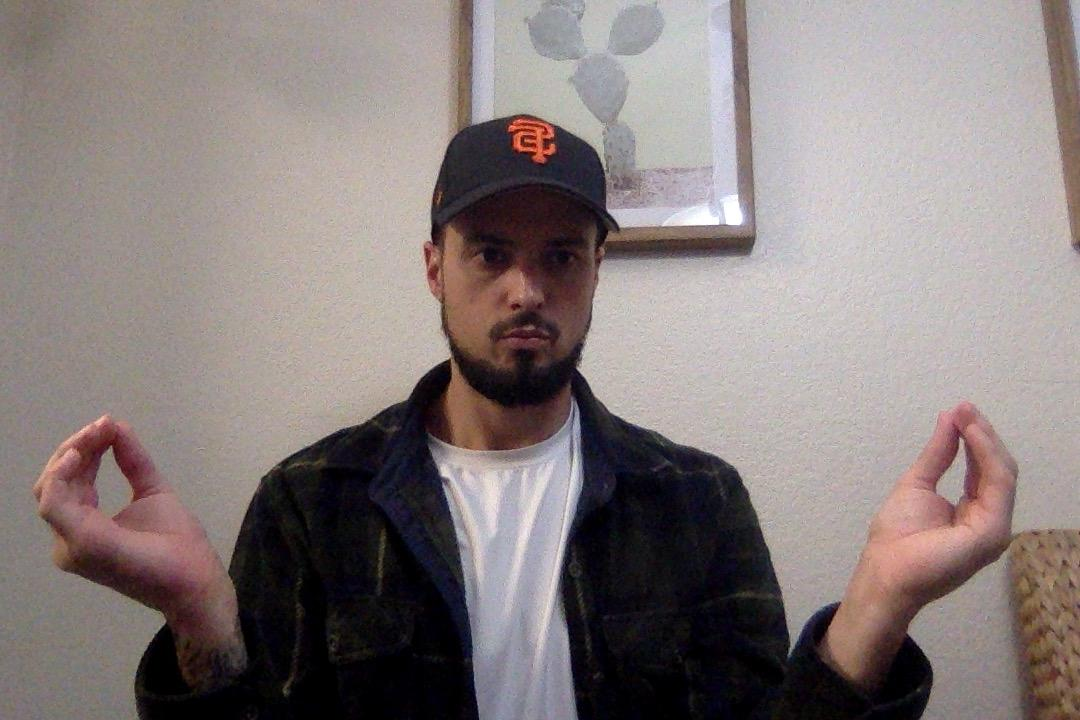Italian-Gesture: (821, 398, 1023, 638), (21, 410, 240, 631)
